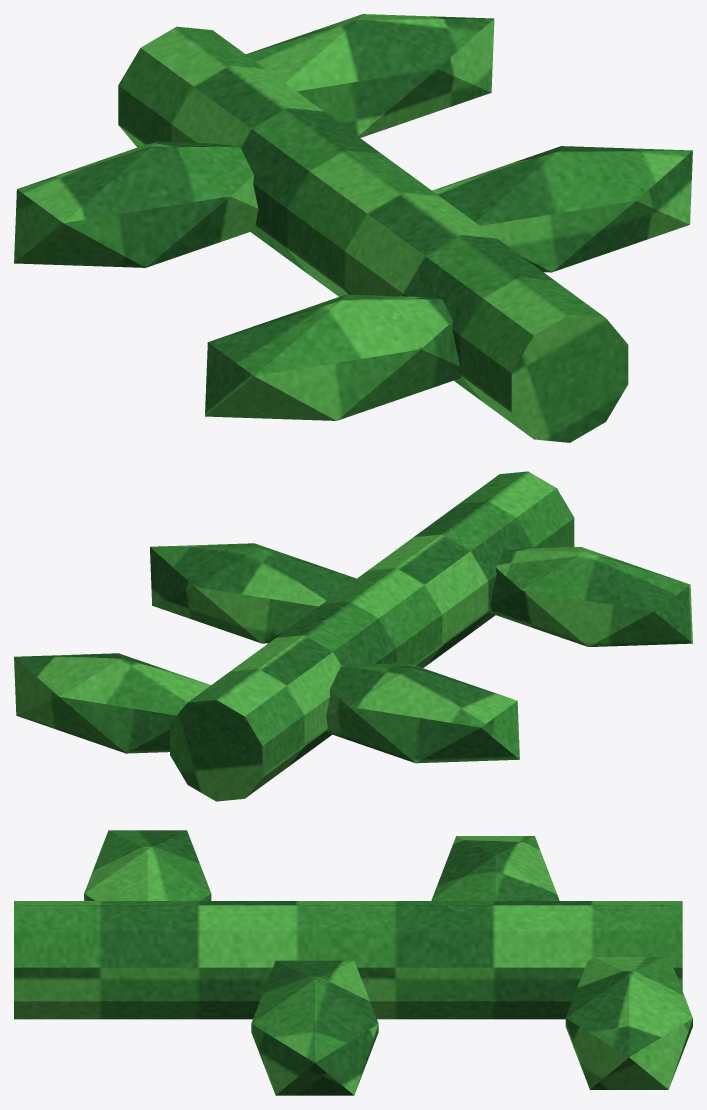
The model's file is Vine.obj.
3 renders of one model, top to bottom at view 1: azimuth 30°, elevation 25°; view 2: azimuth 150°, elevation 25°; view 3: azimuth 270°, elevation 25°, orthographic. The views are drawn at different scales.
Visible parts, largest first — view 1: Vine; view 2: Vine; view 3: Vine.
Part boxes in pixels (x1=…): Vine: x1=14, y1=14, x2=692, y2=442; Vine: x1=14, y1=471, x2=692, y2=801; Vine: x1=14, y1=830, x2=692, y2=1095.
Bounding box in the file's own units: 0.8607 × 0.18 × 1.02.
1 material, 1 textured.
